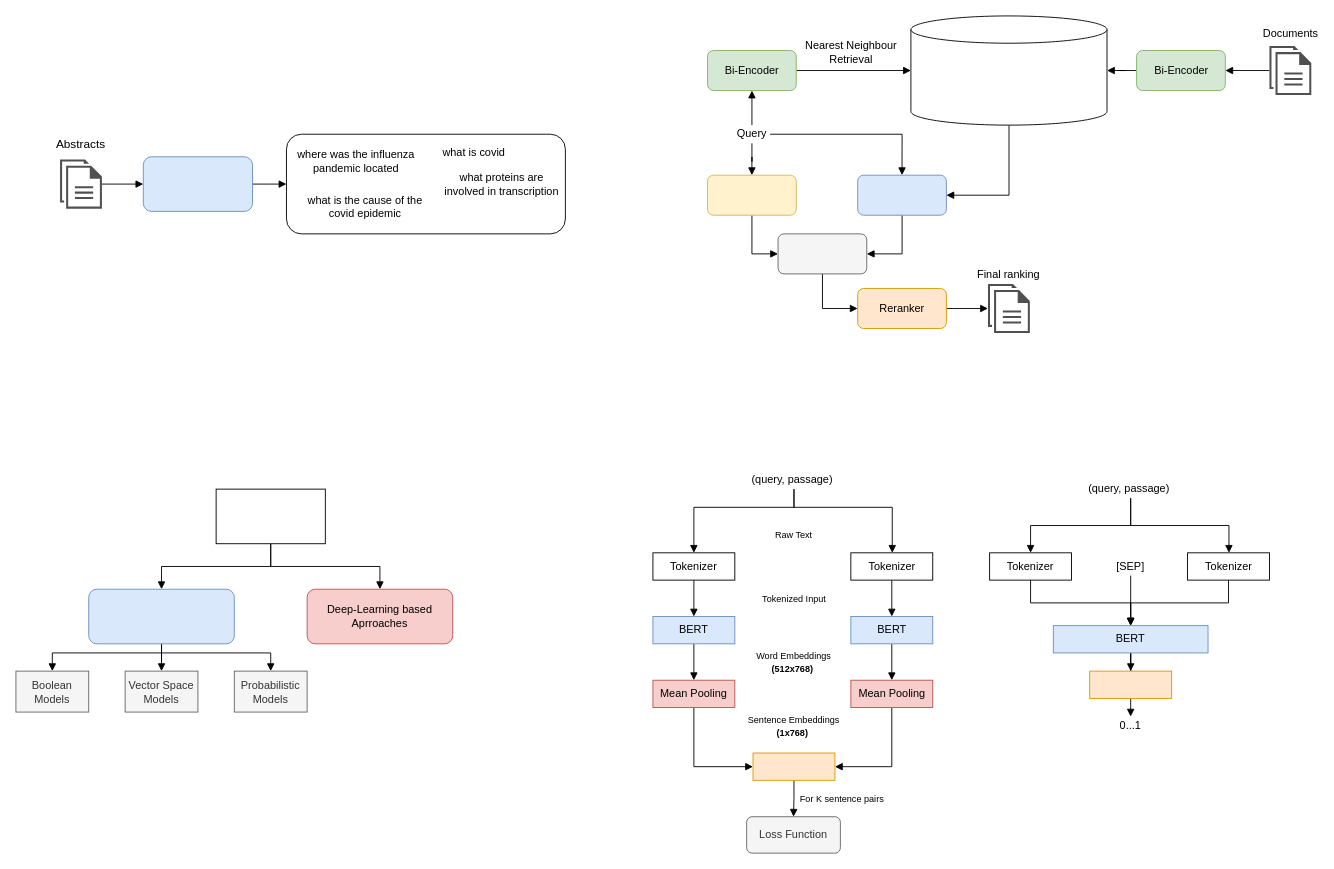
Some shapes in this 1334 by 869 pixel diagram are drawn without their labels. The shapes that lost their labels are listed below. From the top down, each one's centre as x and y in pixels, then its label:
At (x=1008, y=70): "Encoded Document Embeddings Collection".
At (x=197, y=183): "T5".
At (x=751, y=194): "BM25".
At (x=901, y=194): "Cross-Encoder".
At (x=822, y=253): "RRF".
At (x=270, y=516): "IR Models".
At (x=161, y=616): "Traditional Approaches".
At (x=1130, y=684): "Classifier".
At (x=793, y=766): "Similarity Function".
